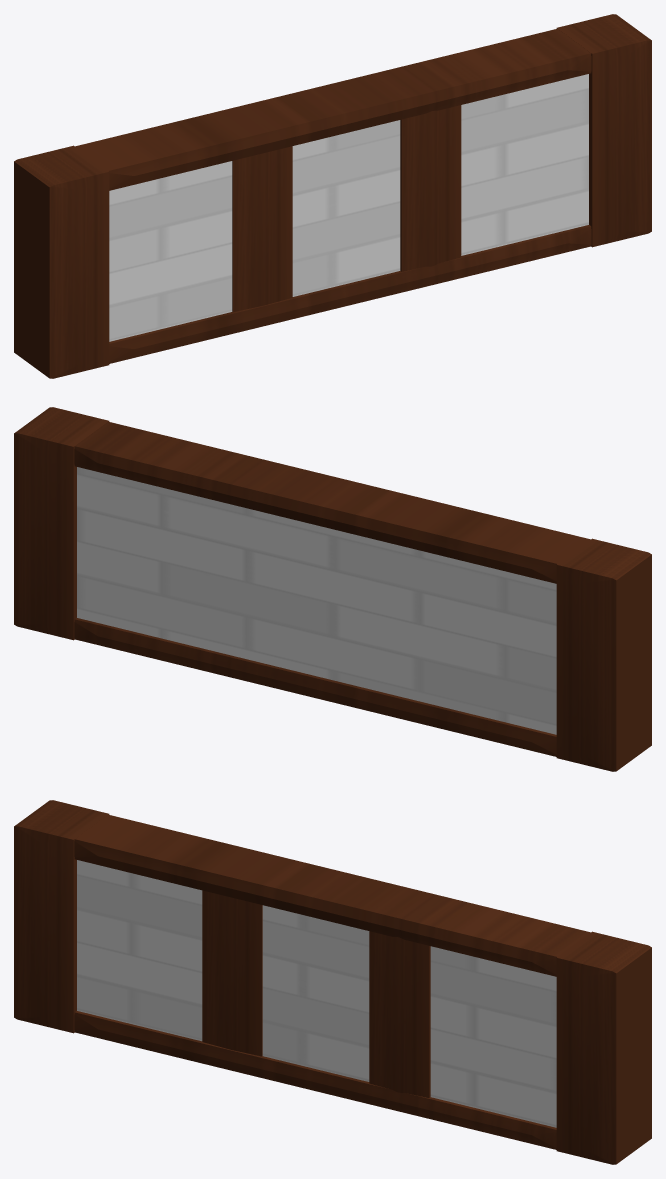
File: Half_Half_Wall_Var1_Brick.fbx
3 renders of one model, top to bottom at view 1: azimuth 30°, elevation 25°; view 2: azimuth 150°, elevation 25°; view 3: azimuth 330°, elevation 25°, orthographic.
Parts seen in each view (by area): view 1: Half_Half_Wall_Var1; view 2: Half_Half_Wall_Var1; view 3: Half_Half_Wall_Var1.
Boxes of the visible parts, left/top/right/bottom form: Half_Half_Wall_Var1: left=14, top=14, right=651, bottom=378; Half_Half_Wall_Var1: left=14, top=407, right=651, bottom=771; Half_Half_Wall_Var1: left=14, top=800, right=651, bottom=1164.
Bounding box in the file's own units: 212 × 64.99 × 23.4.
